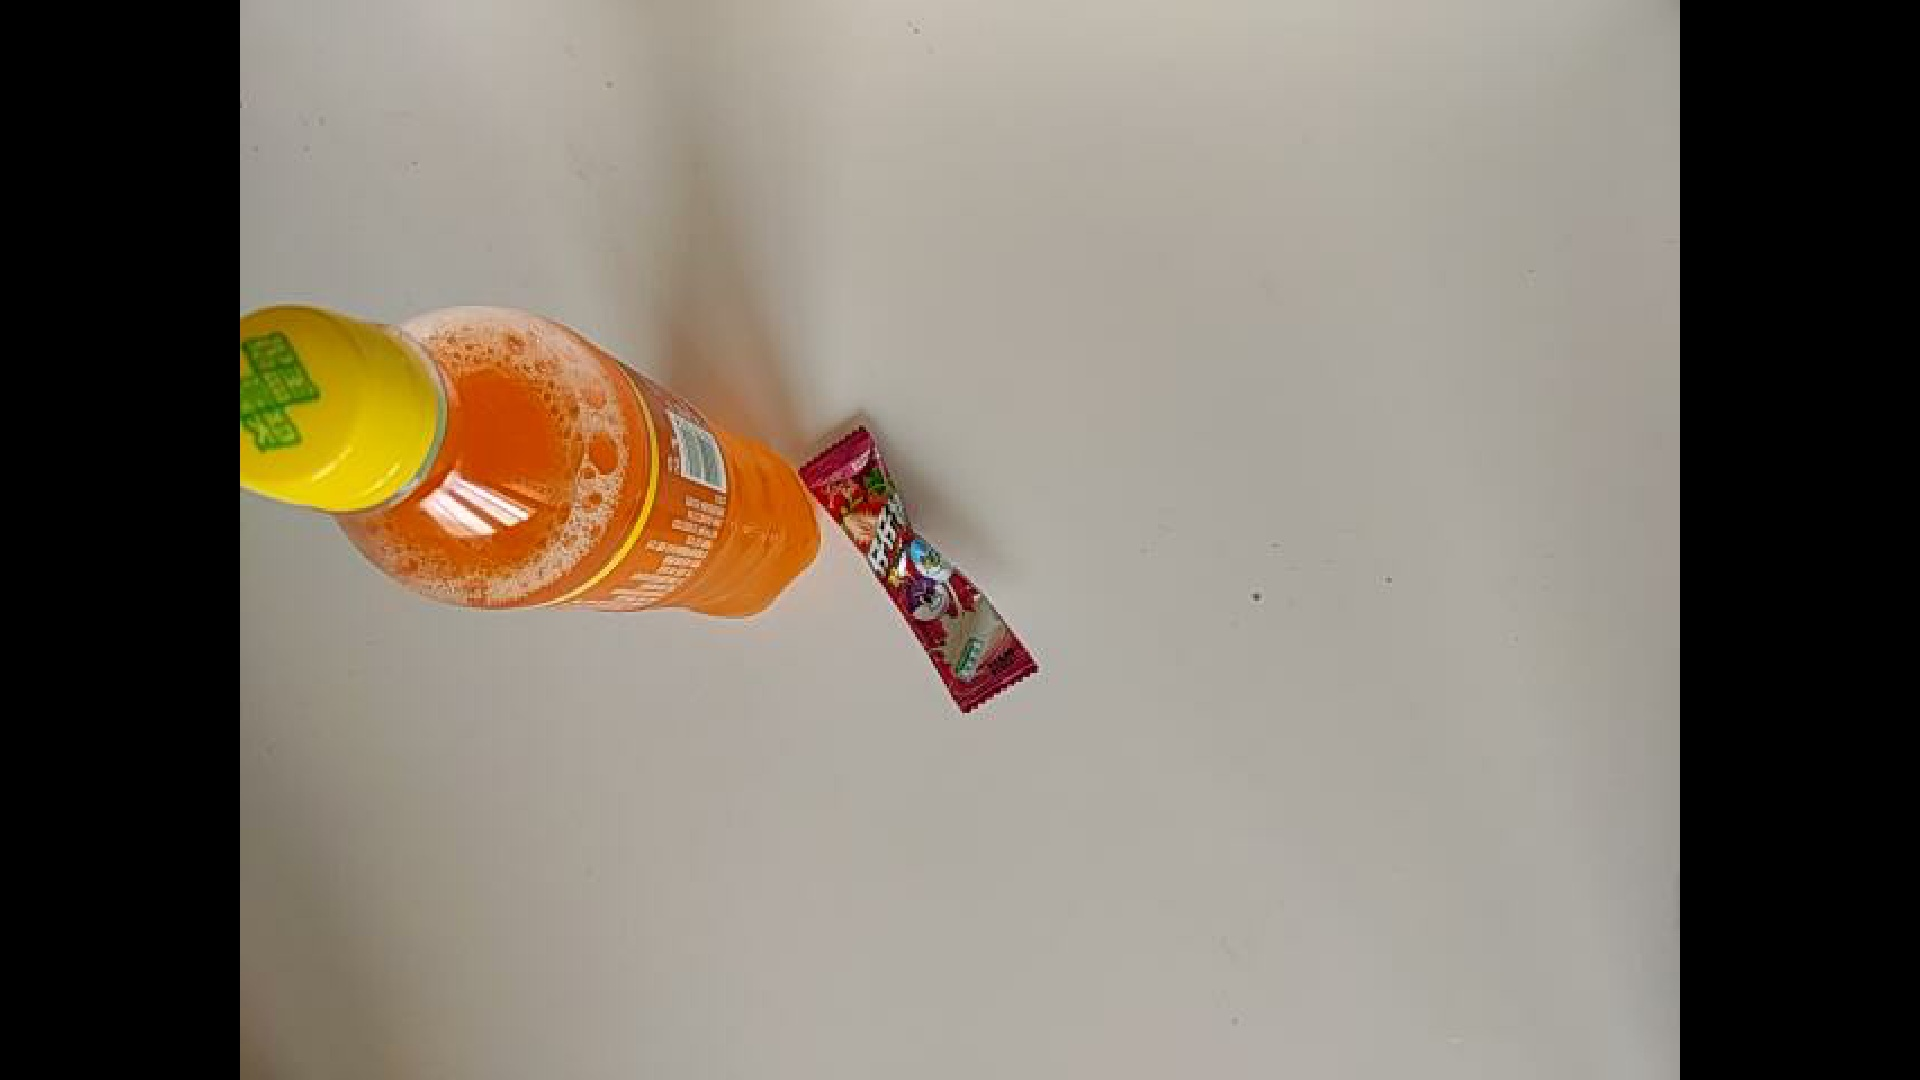fenta: (241, 302, 822, 621)
sugar: (724, 411, 1046, 613)
